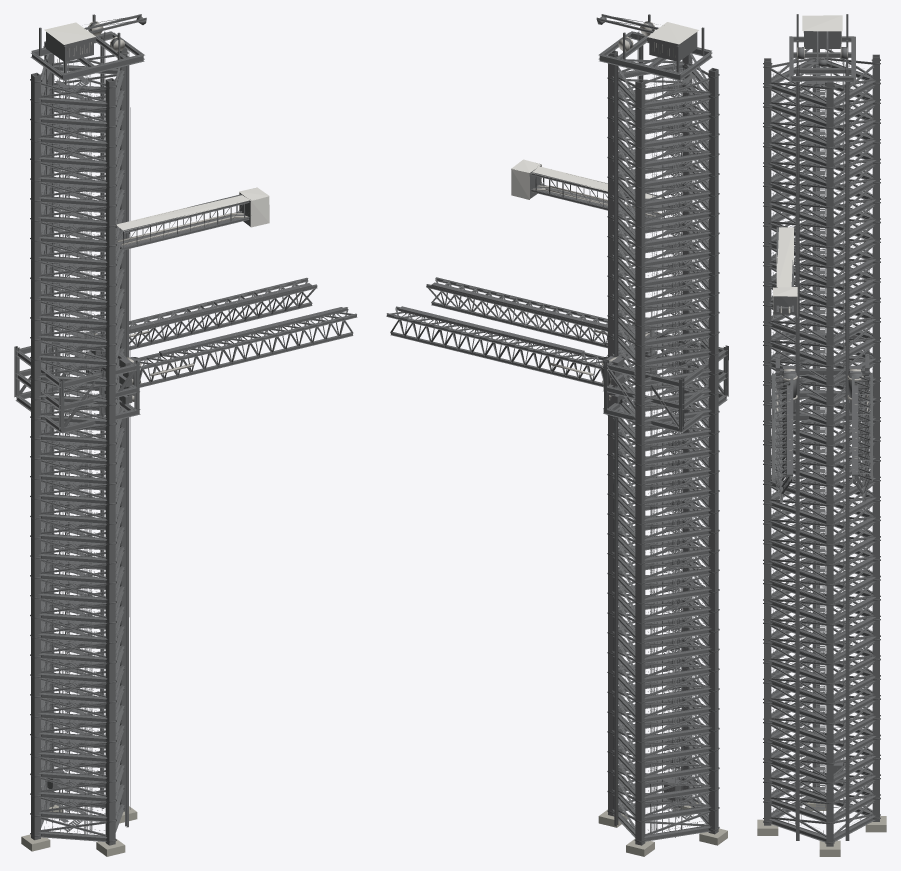
File: tower_a_lod1.glb
3 renders of one model, left to right at view 1: azimuth 30°, elevation 25°; view 2: azimuth 150°, elevation 25°; view 3: azimuth 270°, elevation 25°, orthographic.
Parts seen in each view (by area): view 1: TowerStructure, ArmTruss_R, ArmTruss_L, CarriageFrame, QDTruss; view 2: TowerStructure, ArmTruss_L, ArmTruss_R, CarriageFrame, QDTruss; view 3: TowerStructure, ArmTruss_R, ArmTruss_L, QDTruss, CarriageFrame.
Boxes of the visible parts, x1,y1,x2,y2 form: TowerStructure: [21, 14, 146, 856]; ArmTruss_R: [133, 307, 357, 387]; ArmTruss_L: [95, 277, 317, 357]; CarriageFrame: [14, 331, 140, 433]; QDTruss: [115, 187, 269, 249]; TowerStructure: [596, 14, 727, 856]; ArmTruss_L: [386, 306, 609, 387]; ArmTruss_R: [426, 277, 648, 348]; CarriageFrame: [603, 331, 728, 432]; QDTruss: [511, 159, 664, 218]; TowerStructure: [757, 14, 886, 856]; ArmTruss_R: [772, 371, 797, 502]; ArmTruss_L: [847, 371, 872, 502]; QDTruss: [773, 227, 797, 318]; CarriageFrame: [775, 331, 869, 421].
Bounding box in the file's own units: 57.6 × 143 × 20.85.
4 materials, 1 textured.
